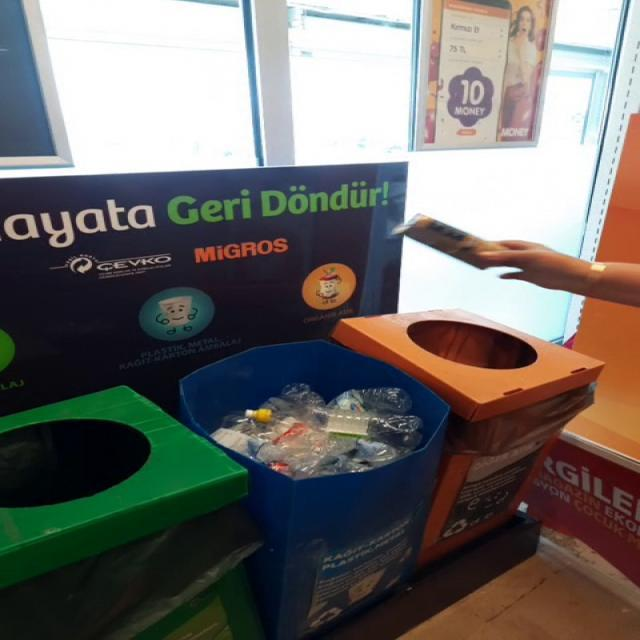Metal: (395, 213, 505, 269)
